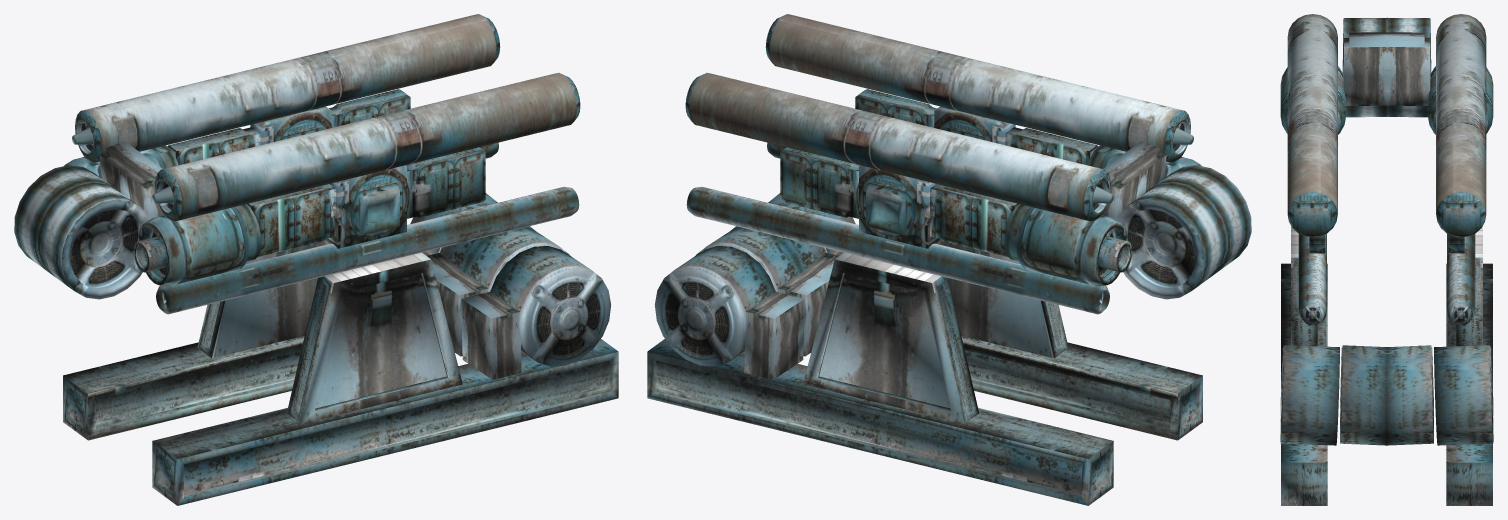
Rendered from industrial27.obj.
3 views of the same model, side by side, from view 1: azimuth 30°, elevation 25°; view 2: azimuth 150°, elevation 25°; view 3: azimuth 270°, elevation 25° (orthographic). The views are drawn at different scales.
Parts seen in each view (by area): view 1: industrial127; view 2: industrial127; view 3: industrial127.
Boxes of the visible parts, x1,y1,x2,y2 form: industrial127: (14, 14, 618, 505); industrial127: (647, 14, 1251, 505); industrial127: (1280, 14, 1493, 505).
Bounding box in the file's own units: 176 × 103 × 67.11.
1 material, 1 textured.
